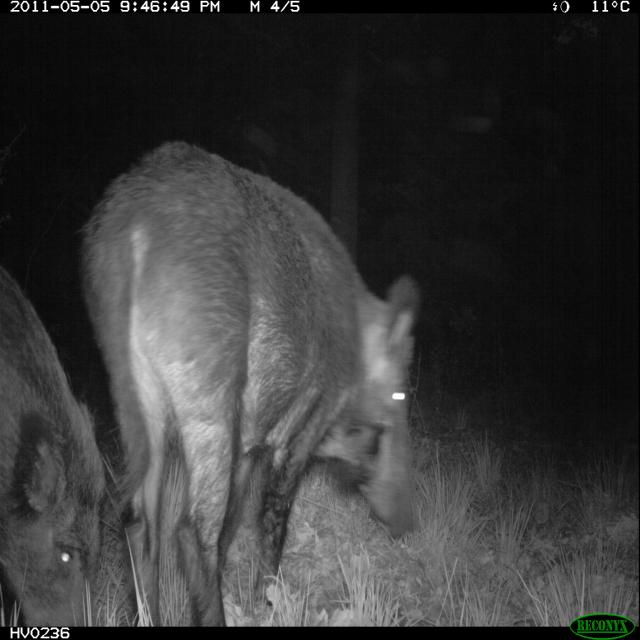boar: (46, 106, 473, 630), (3, 130, 125, 621)
